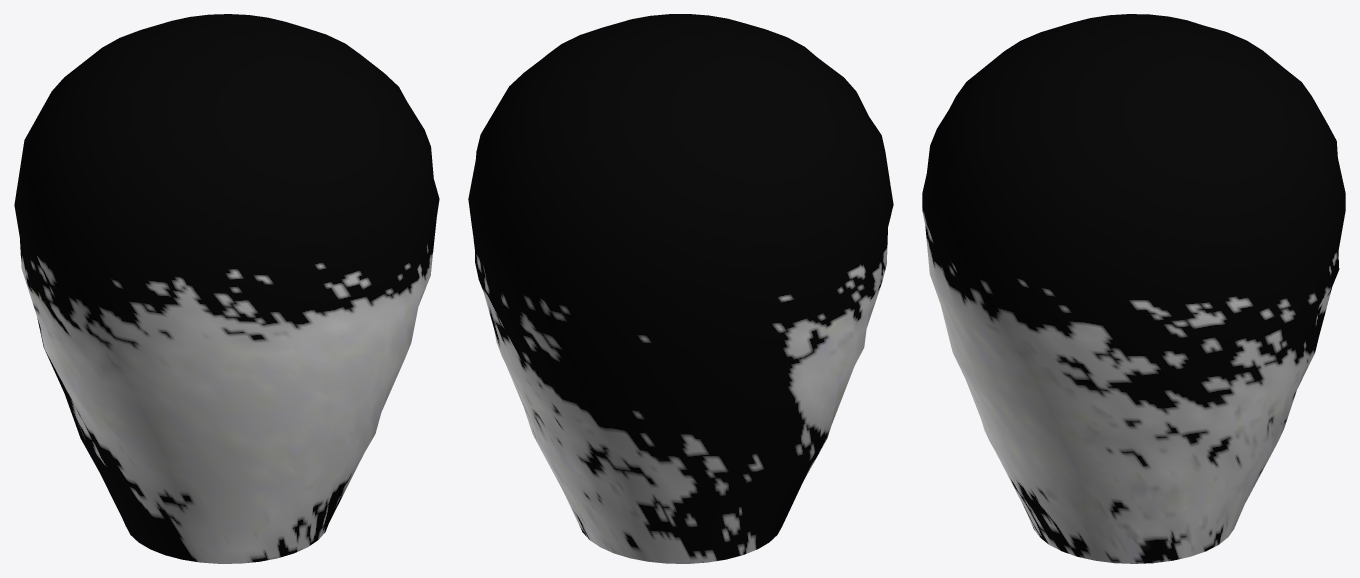
File: TX_rongyandan_3.fbx
The picture shows the model from 3 angles, left to right: view 1: azimuth 30°, elevation 25°; view 2: azimuth 150°, elevation 25°; view 3: azimuth 270°, elevation 25°; orthographic projection.
Parts seen in each view (by area): view 1: TX_rongyandan_3; view 2: TX_rongyandan_3; view 3: TX_rongyandan_3.
Boxes of the visible parts, x1,y1,x2,y2 form: TX_rongyandan_3: [14, 14, 439, 563]; TX_rongyandan_3: [468, 14, 893, 563]; TX_rongyandan_3: [922, 14, 1345, 563].
Size of the model in its own units: 0.3098 by 0.3894 by 0.3098.
Materials: 1 (1 with a texture image).
